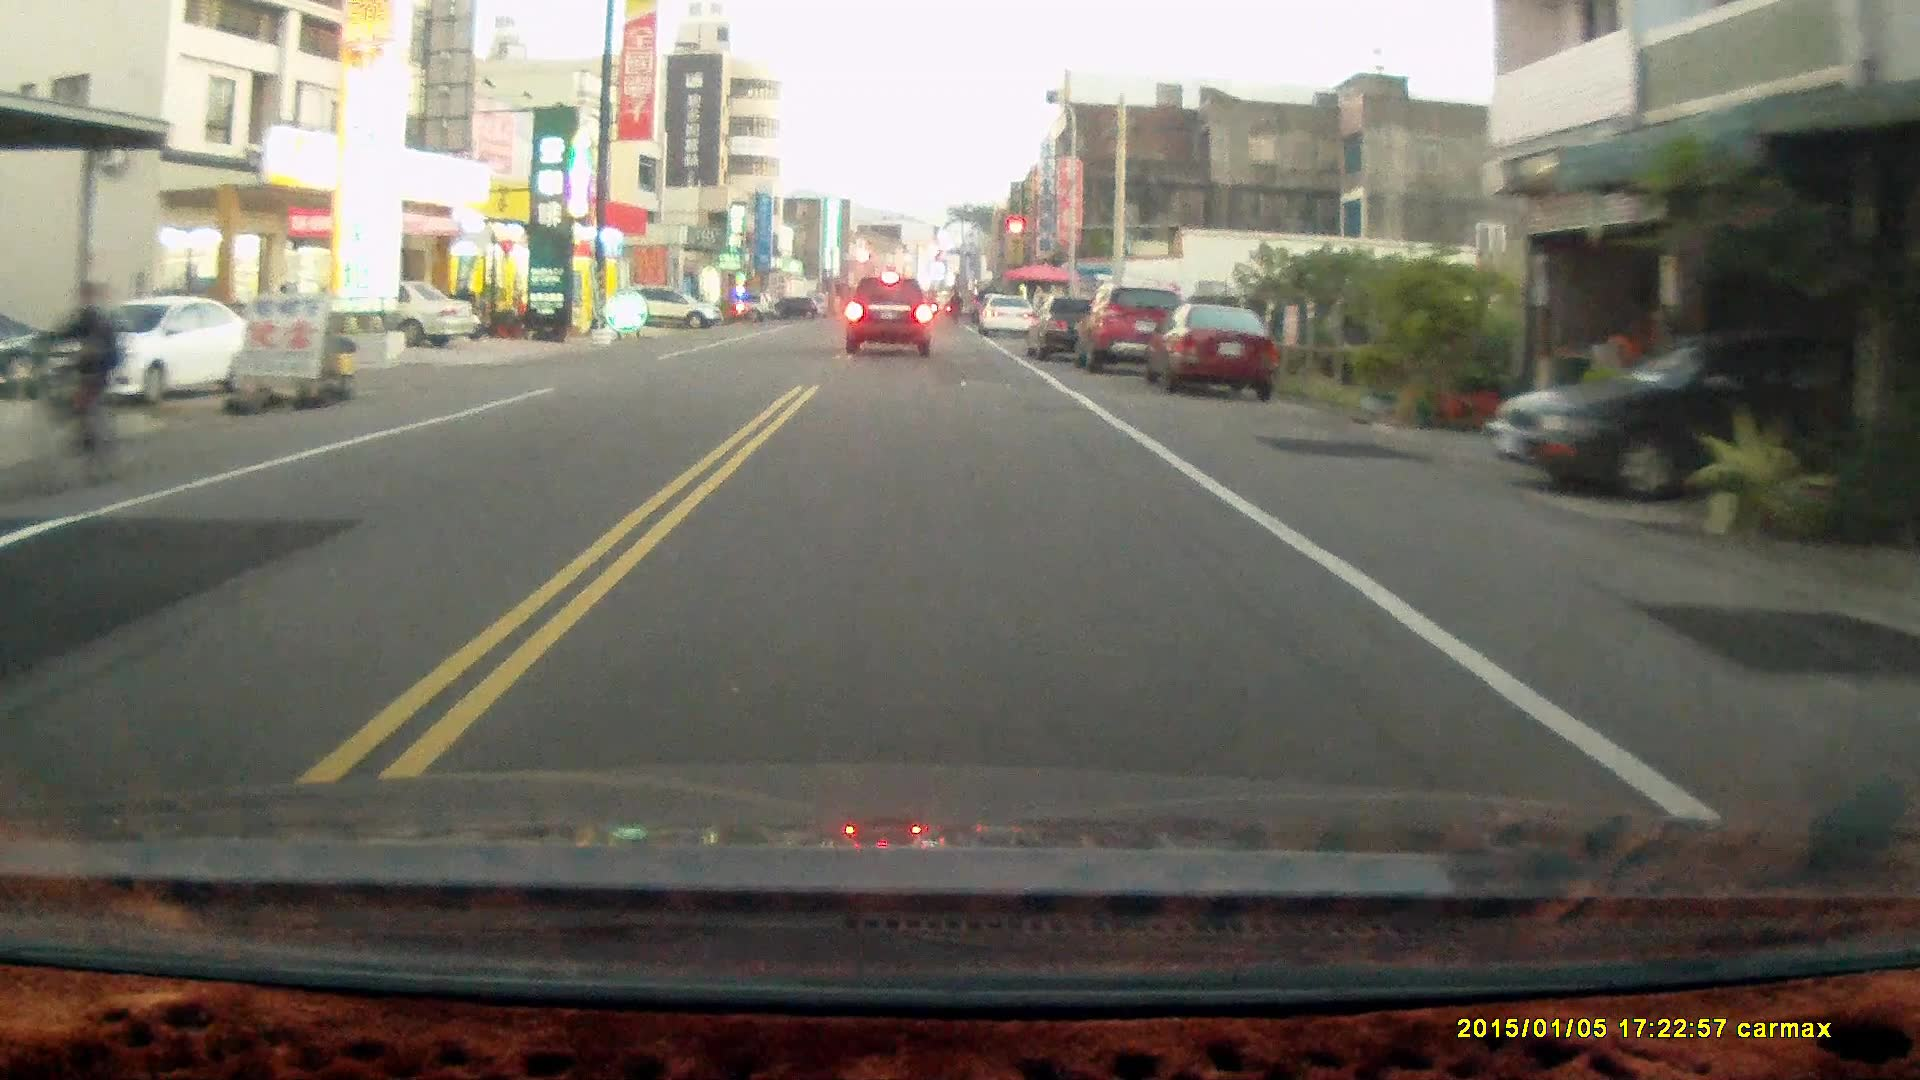rider: (8, 280, 133, 509)
vehicle: (1485, 322, 1920, 500), (45, 297, 267, 406), (1140, 300, 1284, 400), (300, 281, 478, 355), (1079, 282, 1190, 375), (844, 277, 933, 360), (1026, 293, 1126, 359), (626, 289, 721, 333), (978, 293, 1037, 340)
